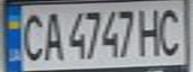4: (63, 7, 84, 61), (100, 7, 121, 58)
7: (115, 6, 139, 57), (81, 7, 103, 60)
A: (39, 8, 66, 62)
C: (18, 8, 48, 63), (157, 3, 187, 57)
H: (136, 5, 166, 57)
